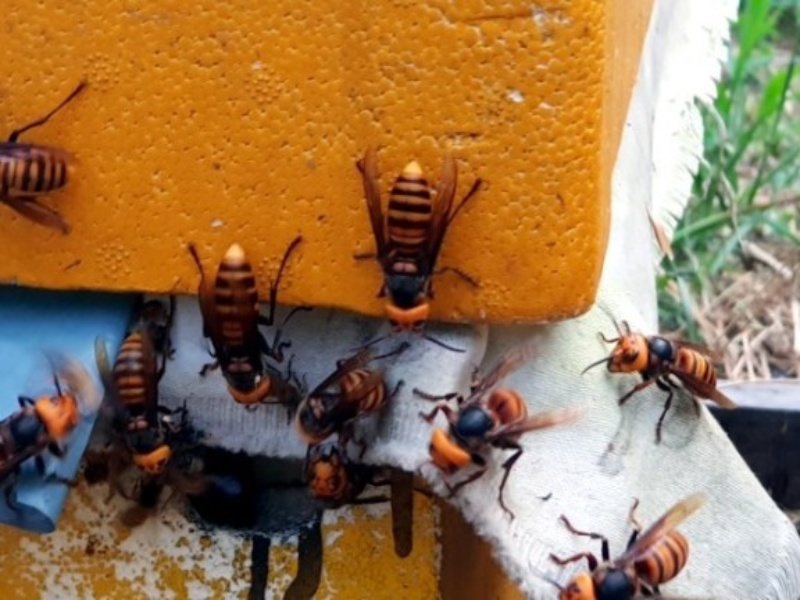asian_giant_hornet: (546, 488, 706, 600), (368, 158, 462, 344), (422, 370, 535, 501), (596, 316, 728, 420), (199, 242, 279, 412), (103, 328, 183, 477), (1, 375, 90, 490), (292, 360, 407, 448), (1, 141, 78, 204), (296, 440, 361, 513)
